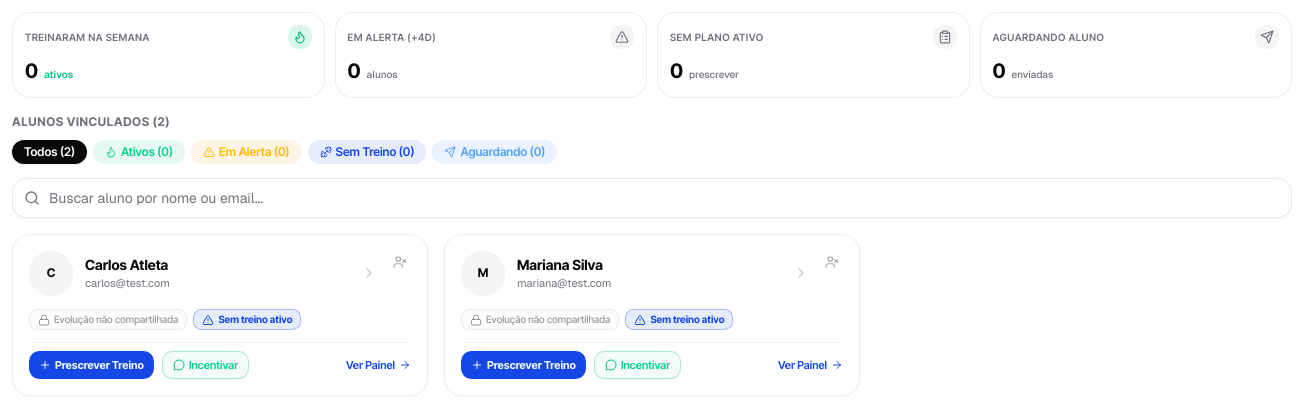
TASK 6.2A — Coach Athlete Overview & Details UI › 1. AthletesList — Busca em tempo real e Navegação para Detalhes › filtra alunos em tempo real por nome
This screenshot has width=1304, height=413.
Step 1. Type "Mariana" into the field with placeholder "Buscar aluno por nome ou email..." → (652, 198), box [12,178,1292,218]
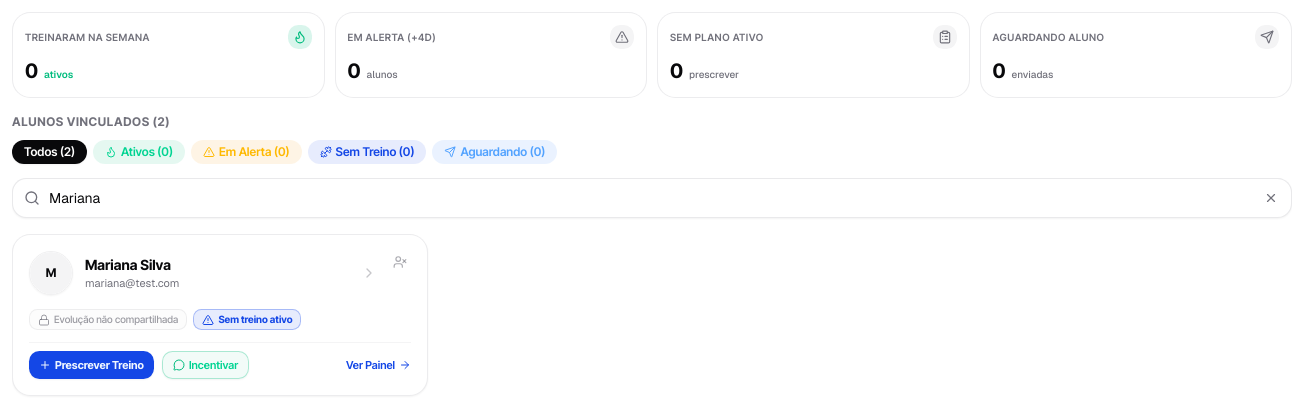
Expected: the text "Mariana Silva" is shown, [85,255,171,275]
Now the link "Carlos Atleta" is gone
